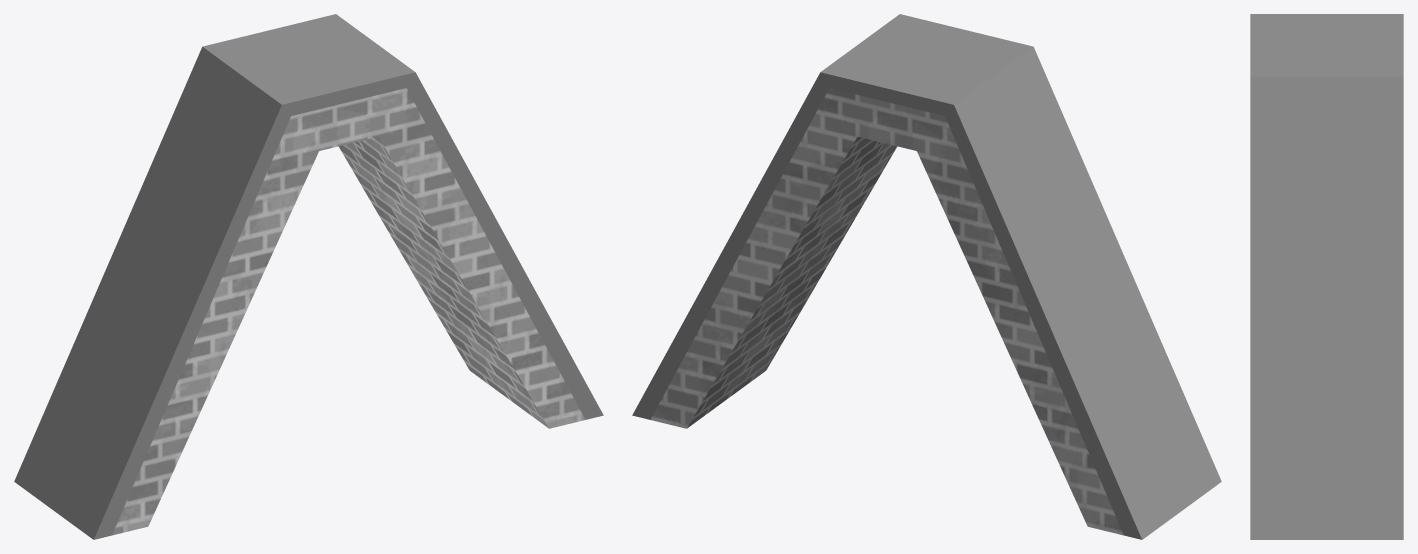
File: Mid_Roof_003.FBX
3 views of the same model, side by side, from view 1: azimuth 30°, elevation 25°; view 2: azimuth 150°, elevation 25°; view 3: azimuth 270°, elevation 25° (orthographic). The views are drawn at different scales.
Visible parts, largest first — view 1: Mid_Roof_003; view 2: Mid_Roof_003; view 3: Mid_Roof_003.
Boxes of the visible parts, bbox=[...] form: Mid_Roof_003: bbox=[14, 14, 603, 539]; Mid_Roof_003: bbox=[632, 14, 1221, 539]; Mid_Roof_003: bbox=[1250, 14, 1403, 539].
Size of the model in its own units: 370 by 100 by 270.
